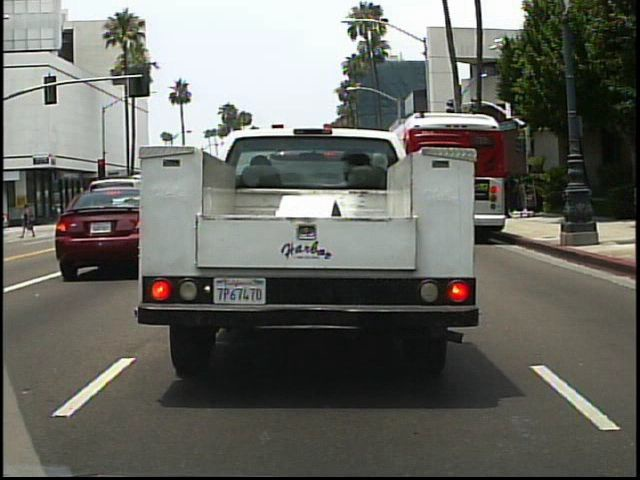person: (502, 168, 521, 220), (19, 198, 40, 241), (19, 198, 38, 233)
